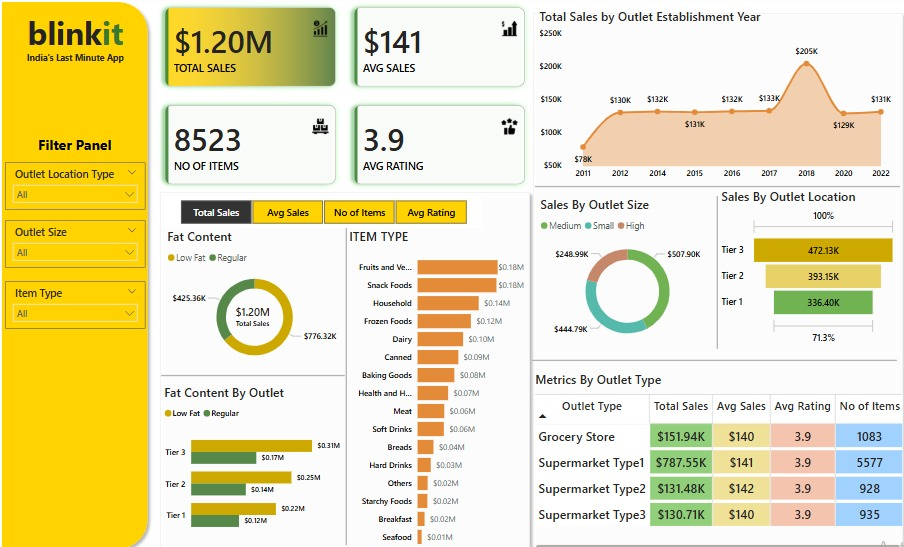

Layout of this report page (visuals, bound fields, positions):
{"tool":"powerbi","page":{"name":"Page 1","canvas":[1280,720],"ordinal":0},"visuals":[{"type":"shape","box":[0,0,146.7,720],"z":0},{"type":"shape","box":[665.8,210,601.7,510],"z":1000},{"type":"image","box":[7,38,120,89.3],"z":2000},{"type":"shape","box":[147.1,210.6,514.1,509.8],"z":3000},{"type":"donutChart","title":"Fat Content","fields":{"Y":["mesure.Total Sales"],"Category":["BlinkIT Grocery Data.Item Fat Content"]},"box":[158.8,254.8,271.6,211],"z":3000,"group":"g1"},{"type":"cardVisual","title":"dd","fields":{"Data":["mesure.Total Sales","mesure.Avg Sales","mesure.No. Of Items","mesure.Avg Rating"]},"box":[169.9,10.6,471.7,198.7],"z":4000},{"type":"slicer","title":"D","fields":{"Values":["BlinkIT Grocery Data.Outlet Location Type"]},"box":[16,223.3,111.7,63.3],"z":5000},{"type":"slicer","fields":{"Values":["Table1.Outlet Size"]},"box":[15,323.3,111.7,66.7],"z":6000},{"type":"clusteredBarChart","title":"ITEM TYPE","fields":{"Category":["BlinkIT Grocery Data.Item Type"],"Y":["mesure.Total Sales"]},"box":[441.3,254.8,200.5,457],"z":7000},{"type":"slicer","fields":{"Values":["Table1.Item Type"]},"box":[15,425,111.7,66.7],"z":8000},{"type":"clusteredBarChart","title":"Fat Content By Outlet","fields":{"Category":["BlinkIT Grocery Data.Outlet Location Type"],"Series":["BlinkIT Grocery Data.Item Fat Content"],"Y":["mesure.Total Sales"]},"box":[156.6,472.5,257.7,239.4],"z":9000},{"type":"donutChart","title":"Sales By Outlet Size","fields":{"Y":["mesure.Total Sales"],"Category":["BlinkIT Grocery Data.Outlet Size"]},"box":[678.3,224.2,295,274],"z":10000},{"type":"funnel","title":"Sales By Outlet Type","fields":{"Y":["mesure.Total Sales"],"Category":["BlinkIT Grocery Data.Outlet Location Type"]},"box":[990.8,224.2,269.2,255.8],"z":11000},{"type":"card","fields":{"Values":["mesure.Total Sales"]},"box":[246.3,350.7,96.5,69.2],"z":11001,"group":"g1"},{"type":"areaChart","fields":{"Category":["BlinkIT Grocery Data.Outlet Establishment Year"],"Y":["mesure.Total Sales"]},"box":[692.9,0,567.1,210],"z":12000},{"type":"pivotTable","title":"Metrics By Outlet Type","fields":{"Rows":["BlinkIT Grocery Data.Outlet Type"],"Values":["mesure.Total Sales","mesure.Avg Sales","mesure.Avg Rating","mesure.No. Of Items"]},"box":[678.6,514.3,581.4,197.1],"z":13000},{"type":"slicer","fields":{"Values":["Modeling.Modeling"]},"box":[168.5,215.1,456.8,40],"z":14000},{"type":"group","id":"g1","title":"Group 2","box":[158.8,254.8,271.6,211],"z":15000},{"type":"shape","box":[428.2,251.5,13.1,460.4],"z":16000},{"type":"shape","box":[156.6,456.7,278.2,15.8],"z":17000},{"type":"shape","box":[670,498.3,590,15.8],"z":18000},{"type":"shape","box":[973.3,230,12.5,268.3],"z":19000},{"type":"textbox","box":[22.3,176.2,103.8,39.2],"z":19001}]}

Visuals, with their boxes on the page's 1280x720 design canvas (x1, y1, x2, y2). These are canvas units, not pixel positions in the 904x547 screenshot, which may show the page scaled, cropped or inside an application window:
shape: left=0, top=0, right=147, bottom=720
shape: left=666, top=210, right=1268, bottom=720
image: left=7, top=38, right=127, bottom=127
shape: left=147, top=211, right=661, bottom=720
"Fat Content" donutChart: left=159, top=255, right=430, bottom=466
"dd" cardVisual: left=170, top=11, right=642, bottom=209
"D" slicer: left=16, top=223, right=128, bottom=287
slicer - Table1.Outlet Size: left=15, top=323, right=127, bottom=390
"ITEM TYPE" clusteredBarChart: left=441, top=255, right=642, bottom=712
slicer - Table1.Item Type: left=15, top=425, right=127, bottom=492
"Fat Content By Outlet" clusteredBarChart: left=157, top=472, right=414, bottom=712
"Sales By Outlet Size" donutChart: left=678, top=224, right=973, bottom=498
"Sales By Outlet Type" funnel: left=991, top=224, right=1260, bottom=480
card - mesure.Total Sales: left=246, top=351, right=343, bottom=420
areaChart - BlinkIT Grocery Data.Outlet Establishment Year x mesure.Total Sales: left=693, top=0, right=1260, bottom=210
"Metrics By Outlet Type" pivotTable: left=679, top=514, right=1260, bottom=711
slicer - Modeling.Modeling: left=168, top=215, right=625, bottom=255
"Group 2" group: left=159, top=255, right=430, bottom=466
shape: left=428, top=252, right=441, bottom=712
shape: left=157, top=457, right=435, bottom=472
shape: left=670, top=498, right=1260, bottom=514
shape: left=973, top=230, right=986, bottom=498
textbox: left=22, top=176, right=126, bottom=215
